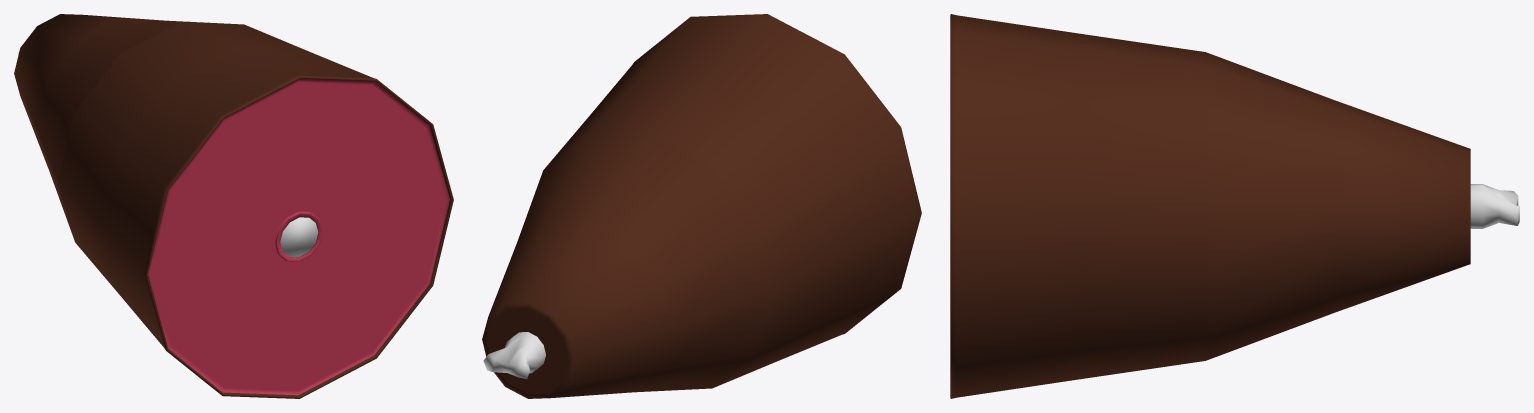
The model's file is Meat.fbx.
3 renders of one model, left to right at view 1: azimuth 30°, elevation 25°; view 2: azimuth 150°, elevation 25°; view 3: azimuth 270°, elevation 25°, orthographic. The views are drawn at different scales.
Parts seen in each view (by area): view 1: Meat; view 2: Meat, Meat_1; view 3: Meat, Meat_1.
Boxes of the visible parts, x1,y1,x2,y2 form: Meat: (14, 14, 453, 398); Meat: (482, 14, 921, 398); Meat_1: (483, 332, 545, 378); Meat: (950, 14, 1470, 398); Meat_1: (1470, 184, 1519, 228).
Bounding box in the file's own units: 0.2597 × 0.3829 × 0.2597.
